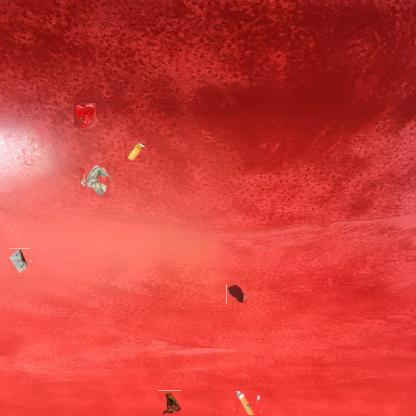dirty: (82, 166, 112, 196), (234, 392, 259, 416), (158, 390, 182, 415), (8, 249, 31, 272), (126, 140, 146, 162)
liquid: (73, 104, 97, 128), (226, 284, 247, 304)
